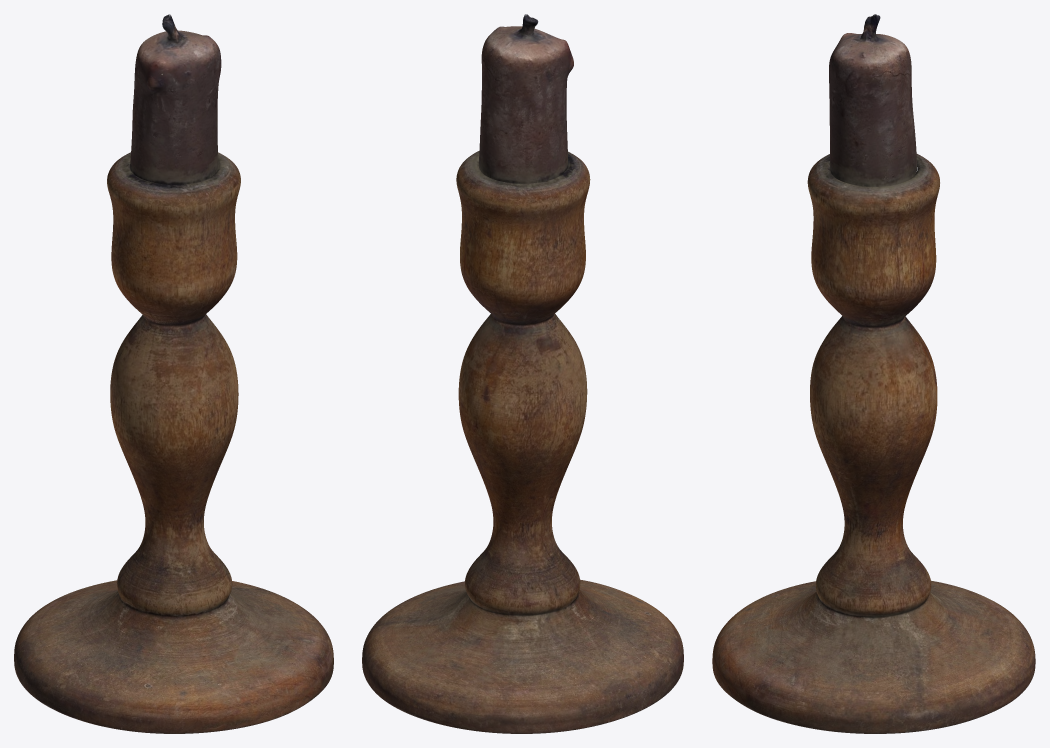
Rendered from wooden_candlestick.gltf.
3 views of the same model, side by side, from view 1: azimuth 30°, elevation 25°; view 2: azimuth 150°, elevation 25°; view 3: azimuth 270°, elevation 25° (orthographic).
Parts seen in each view (by area): view 1: wooden_candlestick; view 2: wooden_candlestick; view 3: wooden_candlestick.
Part boxes in pixels (x1,y1,x2,y2): wooden_candlestick: (14,14,333,733); wooden_candlestick: (362,14,683,733); wooden_candlestick: (712,14,1035,733).
Size of the model in its own units: 0.0972 by 0.2197 by 0.0987.
Materials: 1 (1 with a texture image).
